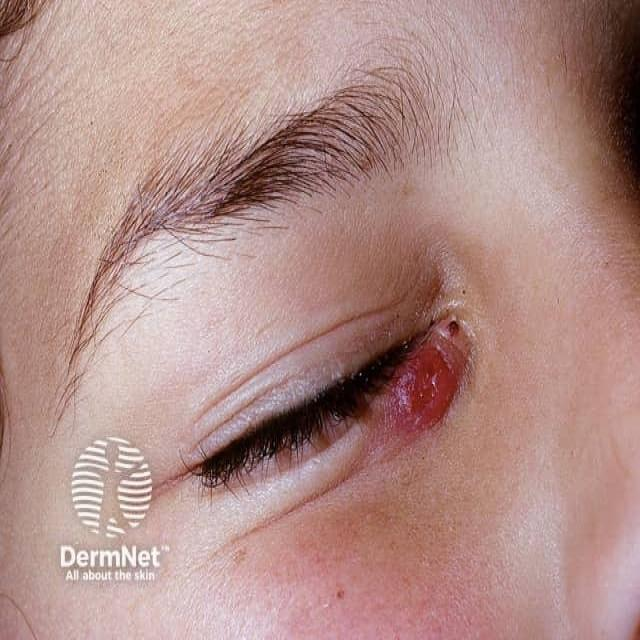lupus-detected: (335, 268, 515, 448)
